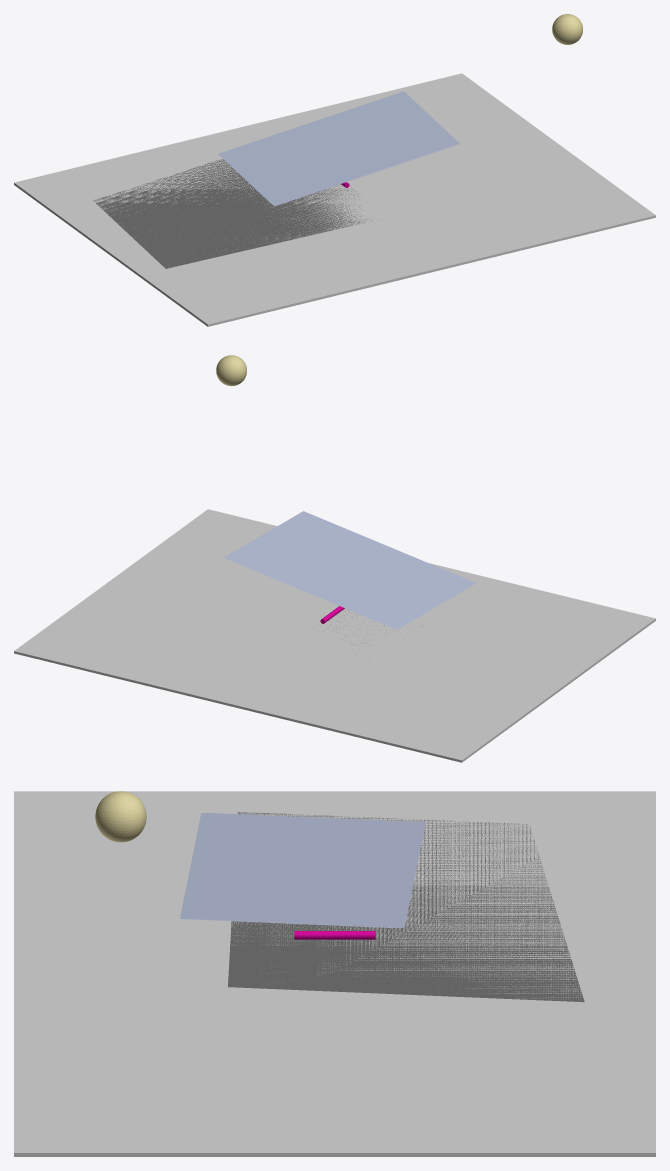
Rendered from P13_shadow_observer.glb.
The picture shows the model from 3 angles, top to bottom: view 1: azimuth 30°, elevation 25°; view 2: azimuth 150°, elevation 25°; view 3: azimuth 270°, elevation 25°; orthographic projection. The views are drawn at different scales.
Parts seen in each view (by area): view 1: world; view 2: world; view 3: world.
Part boxes in pixels (<box>): world: <box>14,14,655,326</box>; world: <box>14,355,655,762</box>; world: <box>14,791,655,1156</box>.
Size of the model in its own units: 2 by 0.82 by 1.5.
